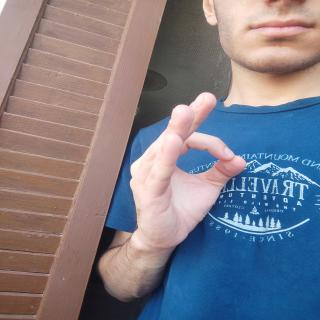Space: (125, 86, 248, 246)
